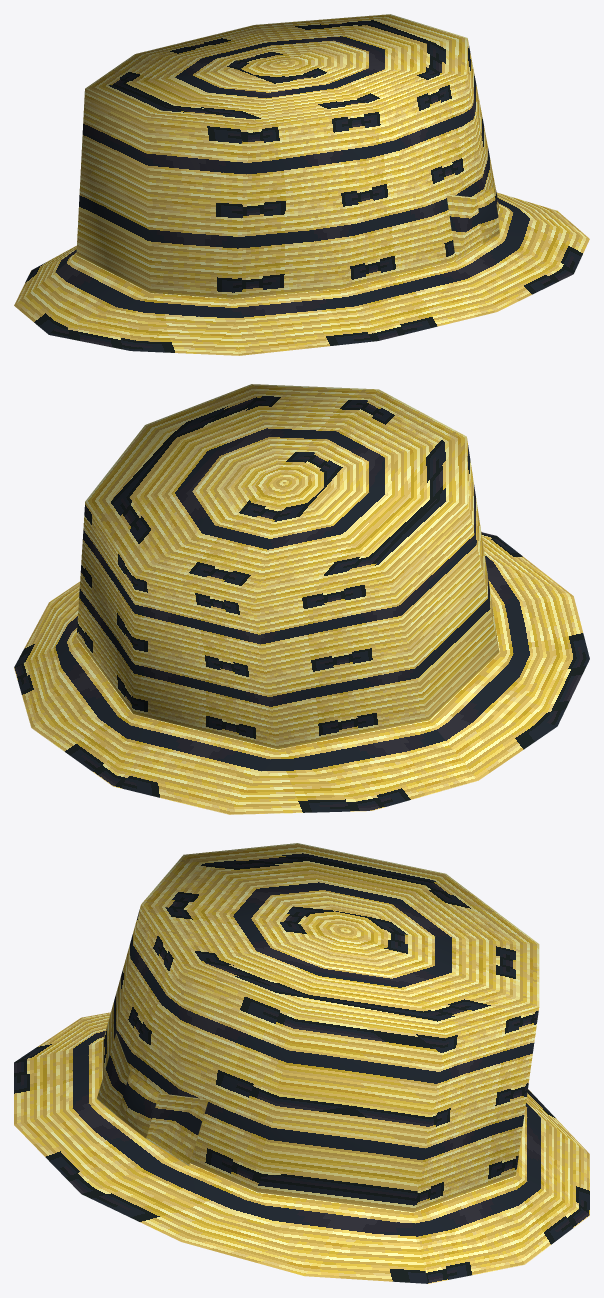
Rendered from code_head30.gltf.
3 views of the same model, one above another, from view 1: azimuth 30°, elevation 25°; view 2: azimuth 150°, elevation 25°; view 3: azimuth 270°, elevation 25° (orthographic). The views are drawn at different scales.
Visible parts, largest first — view 1: code_head30; view 2: code_head30; view 3: code_head30.
Part boxes in pixels (x1,y1,x2,y2): code_head30: (14, 14, 589, 355); code_head30: (14, 384, 589, 814); code_head30: (14, 843, 589, 1283).
Bounding box in the file's own units: 0.8467 × 0.4126 × 0.7681.
Materials: 1 (1 with a texture image).
